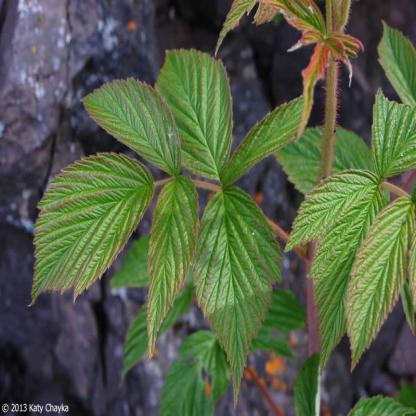raspberry leaf: (280, 167, 380, 373), (26, 152, 154, 308), (194, 181, 282, 403), (339, 196, 415, 376), (133, 172, 201, 363), (79, 78, 186, 173), (161, 42, 232, 177), (225, 96, 305, 180), (375, 85, 415, 180)
